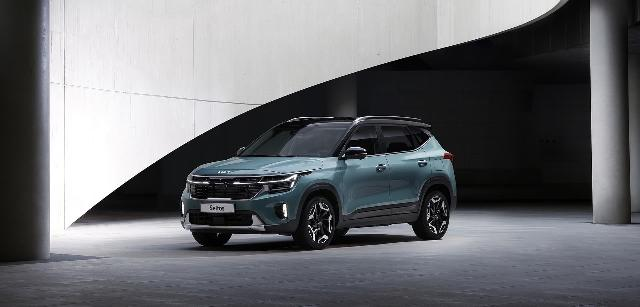kia: (180, 115, 458, 249)
